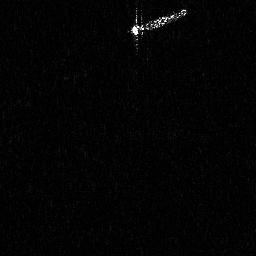ship: (126, 6, 189, 52)
